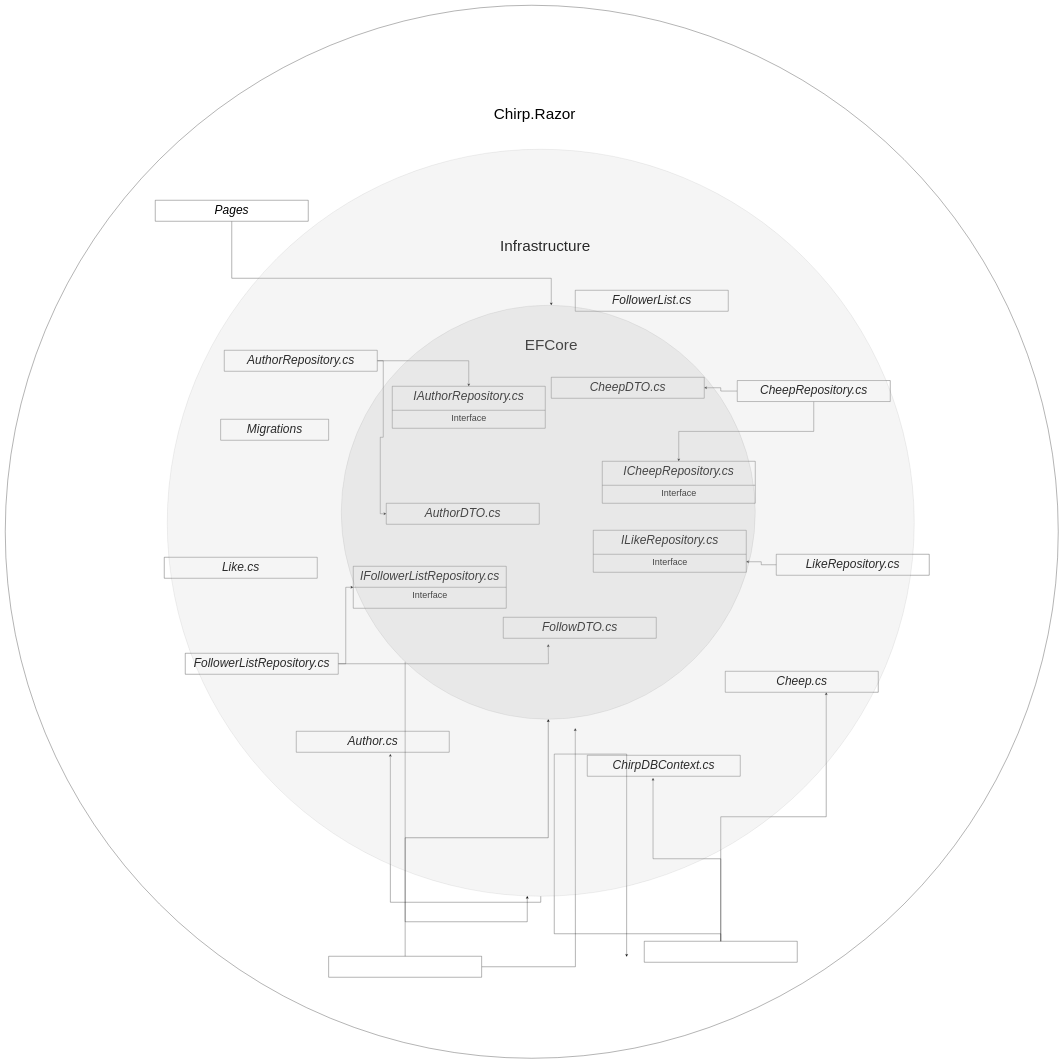
This 1064x1064 diagram has some shape labels left out. Each missing label, with the centre of its shape:
DbInitializer.cs: (x=720, y=951)
Program.cs: (x=405, y=966)
